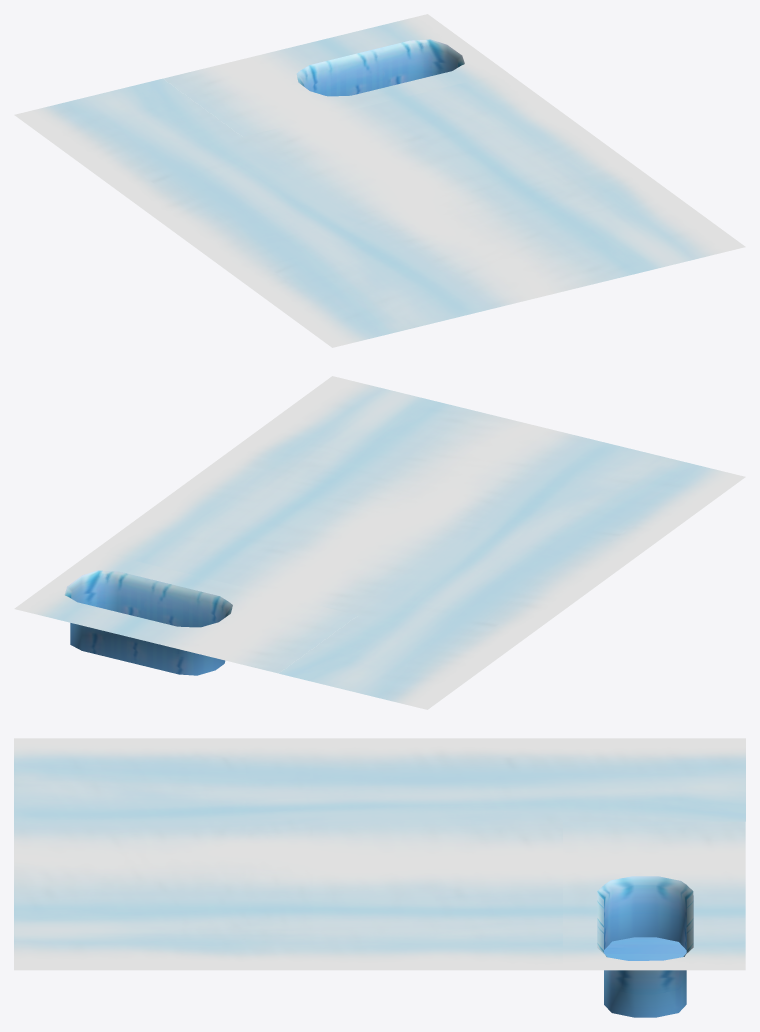
Rendered from Hole_M_01_R.FBX.
The picture shows the model from 3 angles, top to bottom: view 1: azimuth 30°, elevation 25°; view 2: azimuth 150°, elevation 25°; view 3: azimuth 270°, elevation 25°; orthographic projection. The views are drawn at different scales.
Visible parts, largest first — view 1: Object126; view 2: Object126; view 3: Object126.
Boxes of the visible parts, x1,y1,x2,y2 form: Object126: (14, 14, 745, 347); Object126: (14, 376, 745, 709); Object126: (14, 738, 745, 1017).
Bounding box in the file's own units: 600 × 70 × 800.
